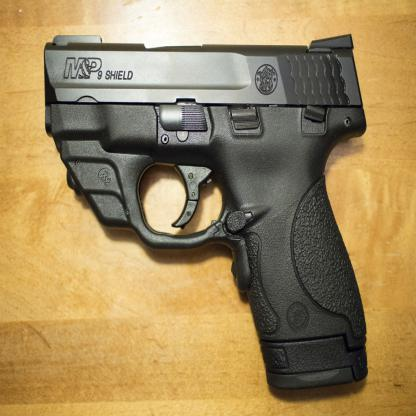Handgun: (43, 33, 367, 390)
